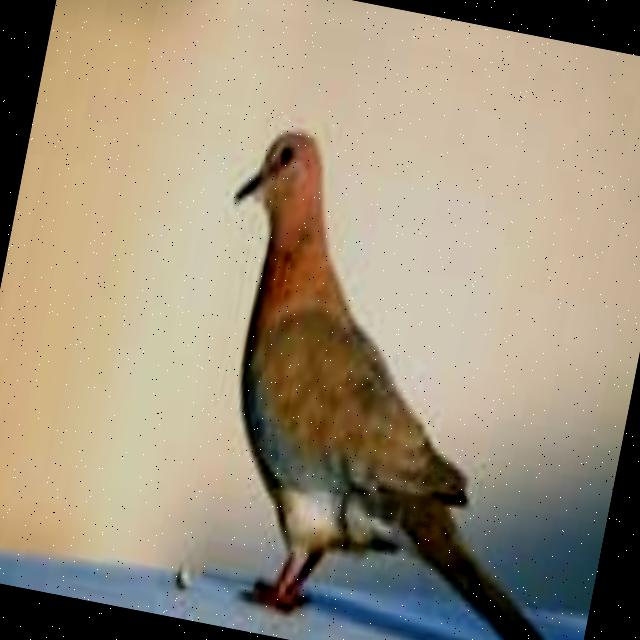dove: (147, 113, 640, 640)
